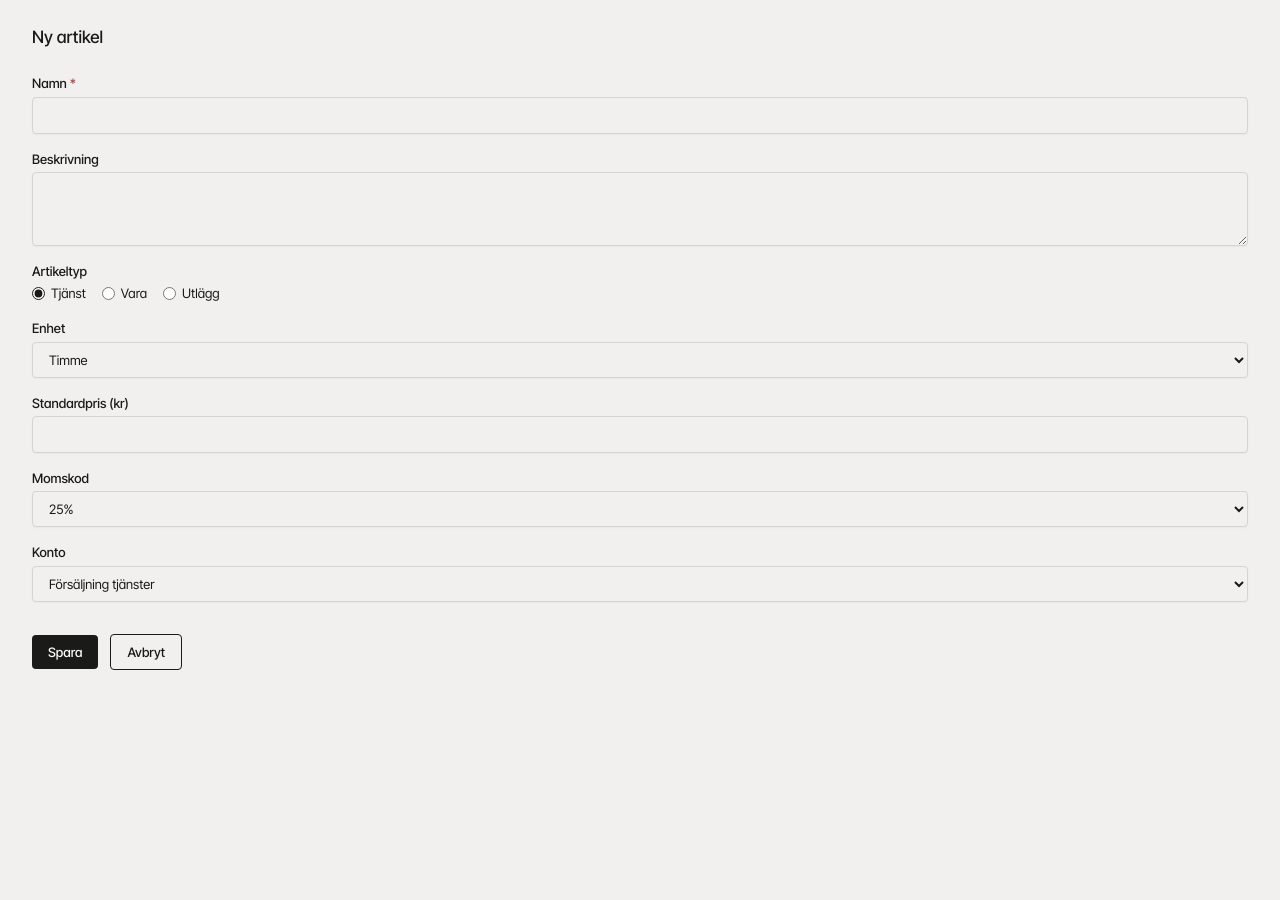
Test: ProductForm › shows validation error for empty name
Expected: the field labelled "Namn *" is shown, [32,97,1248,134]
# Leave name empty, try to submit
Click the button "Spara" at (65, 652), box [32,635,98,669]
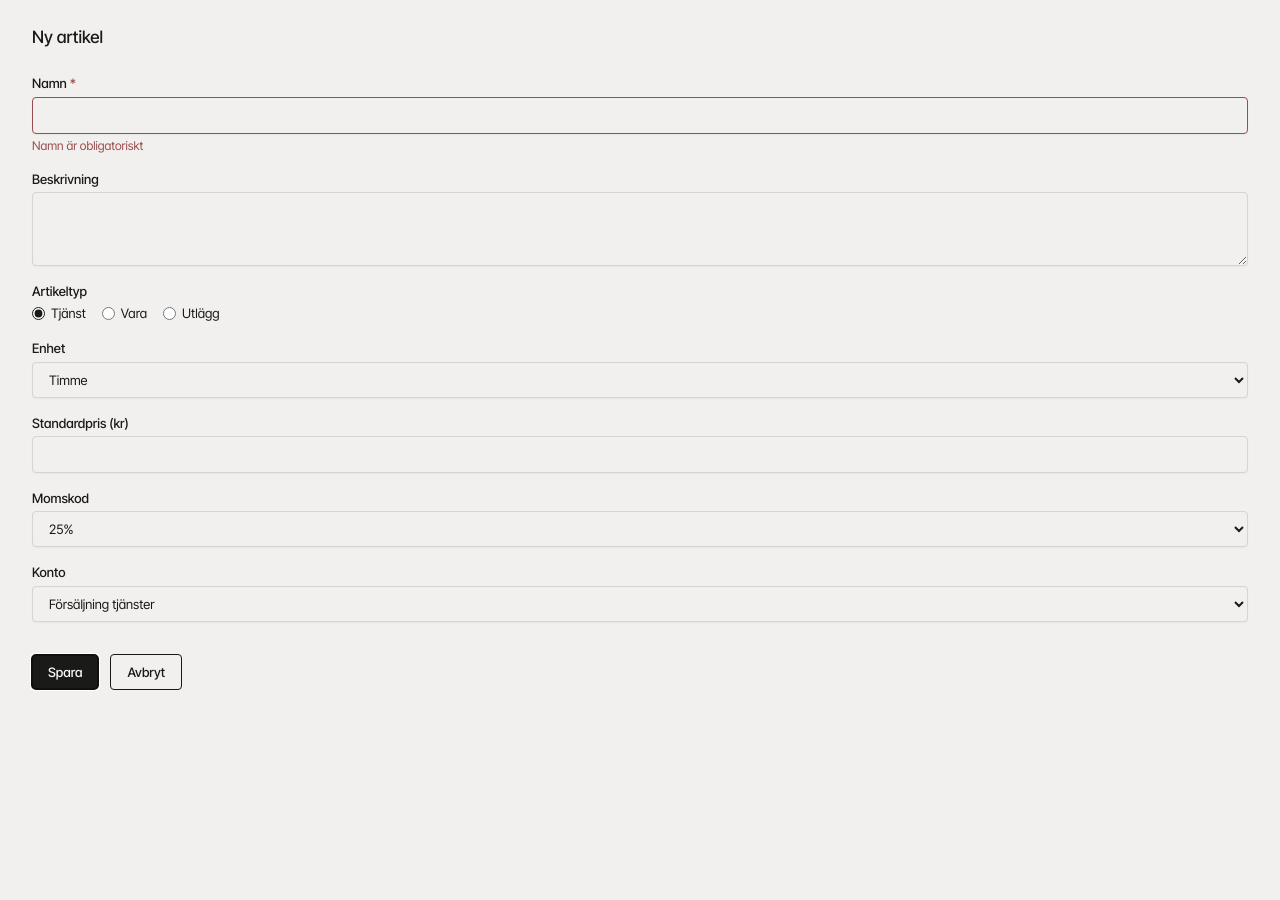
Now the text "Namn är obligatoriskt" is shown, box [32,138,143,153]
